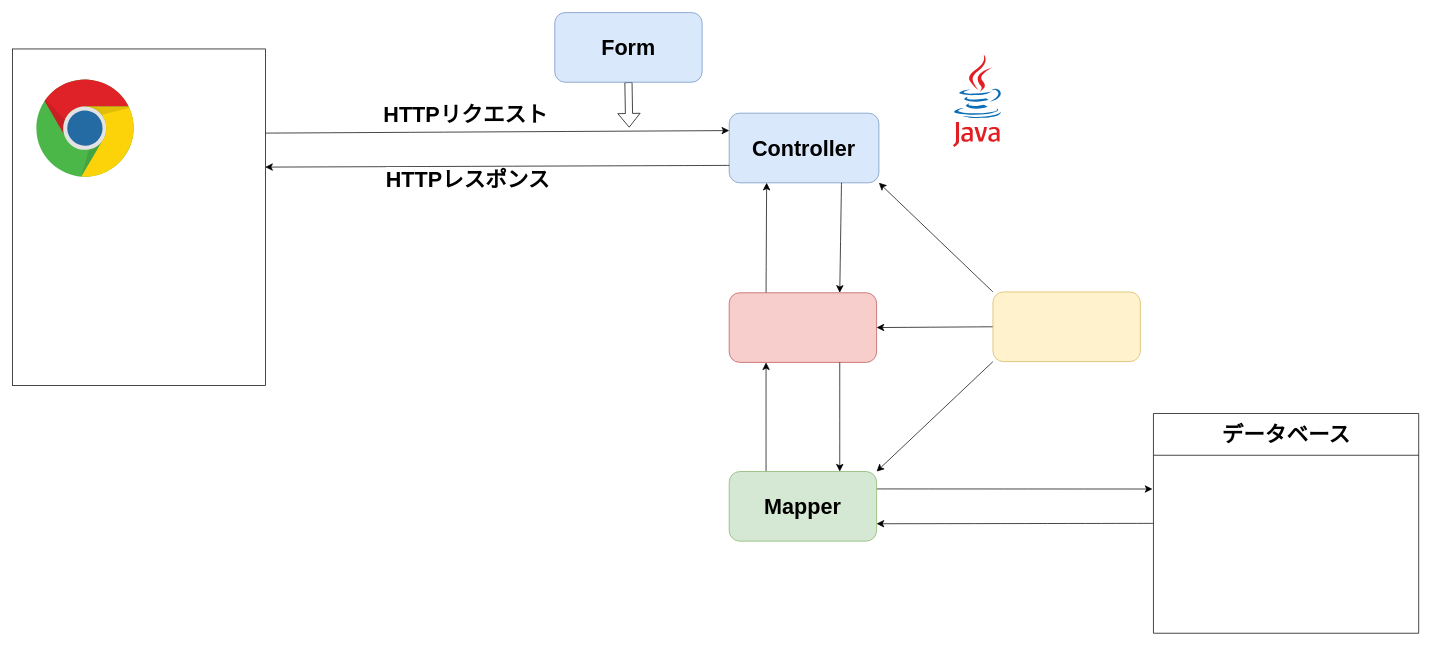
The diagram is 1431 pixels wide and 646 high, and some of its shapes have lost their labels. The centre of each missing label's shape, as x and y in pixels:
"Entity" goes at [1066,326].
"Service" goes at [802,327].
